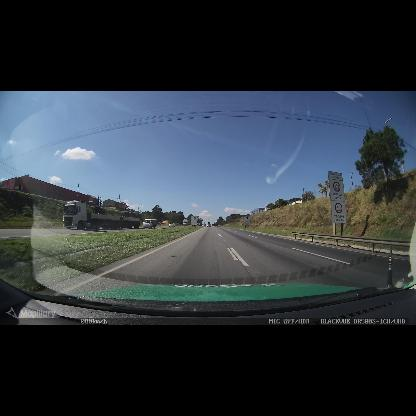I-SA: (327, 171, 343, 181)
R-19: (328, 179, 347, 223)
